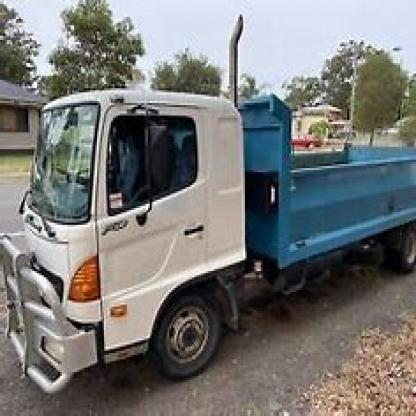dump_truck: (11, 55, 414, 388)
